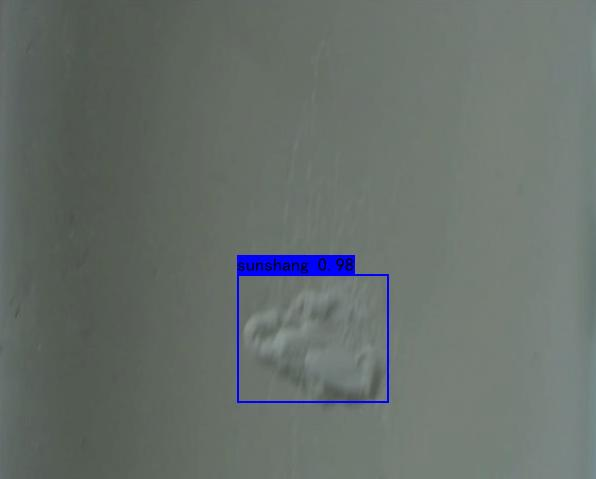sunshang: (230, 272, 394, 418)
